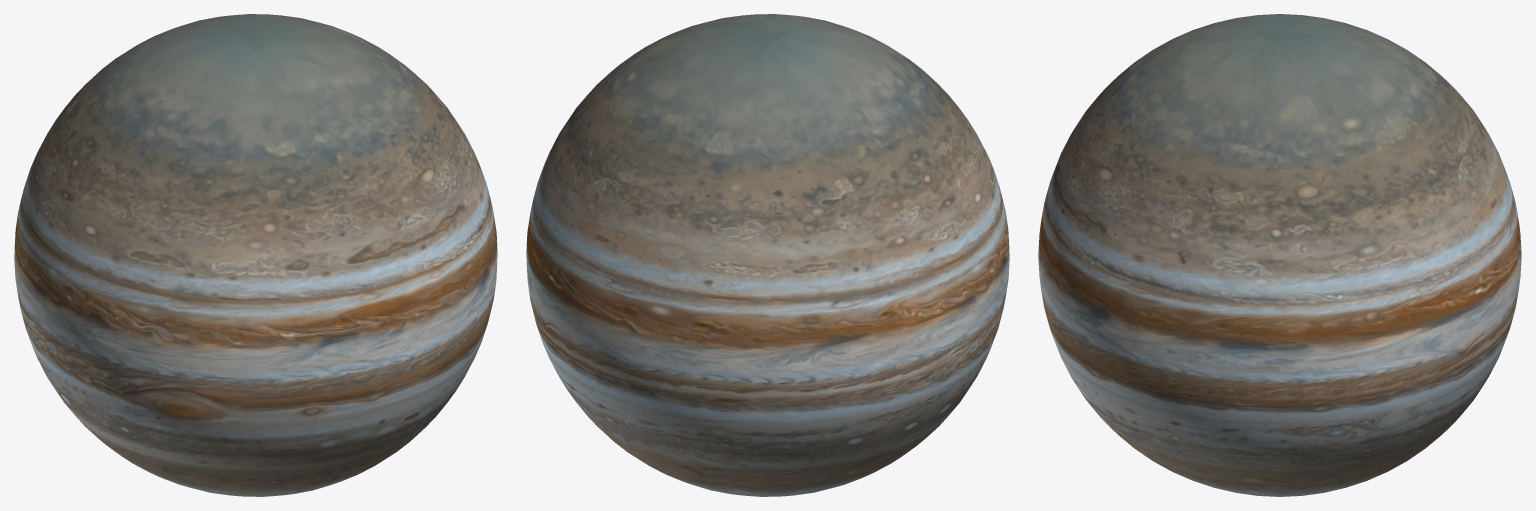
Rendered from Jupiter.gltf.
3 renders of one model, left to right at view 1: azimuth 30°, elevation 25°; view 2: azimuth 150°, elevation 25°; view 3: azimuth 270°, elevation 25°, orthographic.
Parts seen in each view (by area): view 1: Jupiter; view 2: Jupiter; view 3: Jupiter.
Part boxes in pixels (x1,y1,x2,y2): Jupiter: (14, 14, 497, 496); Jupiter: (526, 14, 1009, 496); Jupiter: (1038, 14, 1521, 496).
Size of the model in its own units: 9.88 by 9.88 by 9.88.
1 material, 1 textured.
